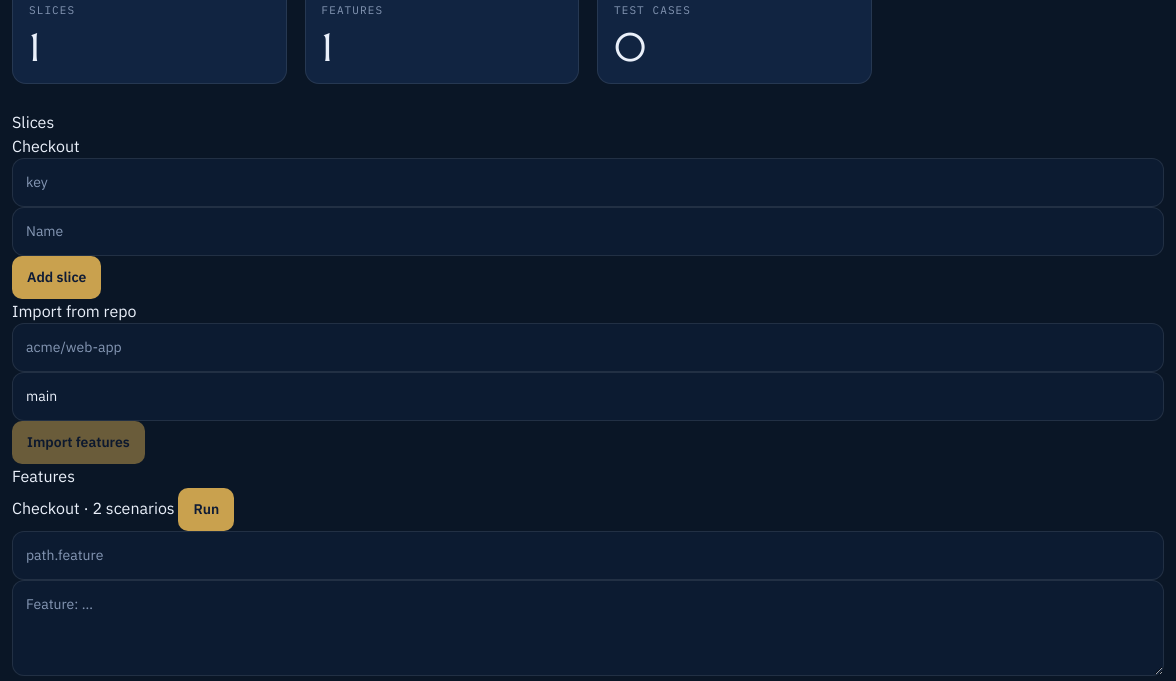
Test: TestLabScreen › runs a feature and shows the aggregated result
Expected: the text "Checkout · 2 scenarios" is shown, [12, 498, 175, 518]
Click the button with aria-label "Run feature Checkout" at (206, 509), box [178, 488, 234, 530]
(page scrolled)
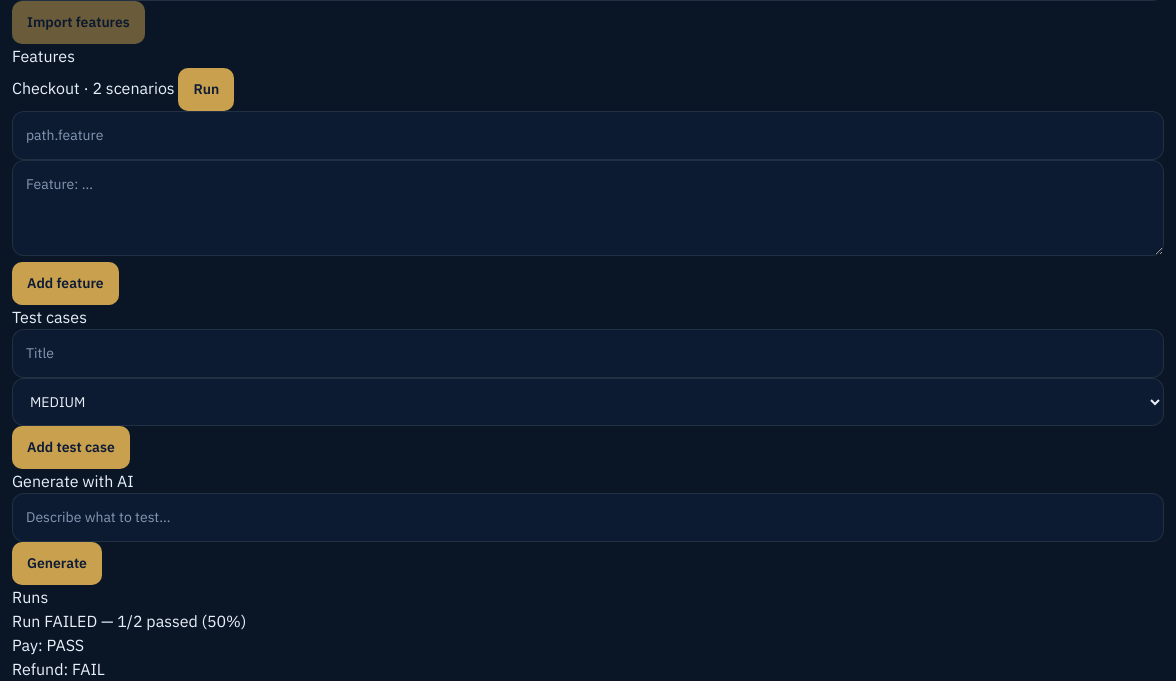
Now the text "Run FAILED — 1/2 passed (50%)" is shown, box [12, 610, 246, 630]
Now the list item "Refund: FAIL" is shown, box [12, 658, 105, 678]
